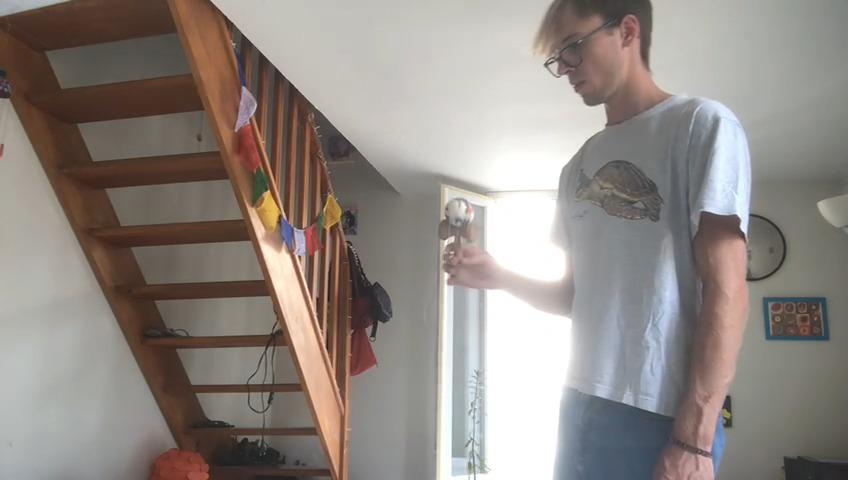kendama_ball: (445, 198, 474, 227)
